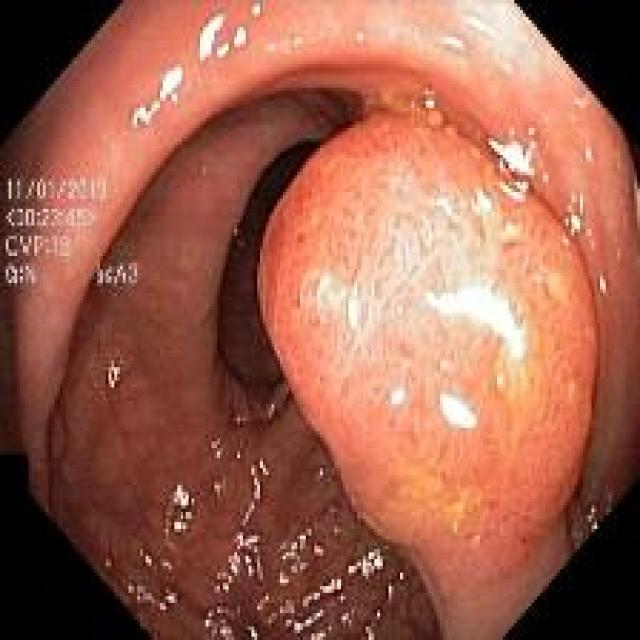Polyps: (260, 113, 598, 587)
